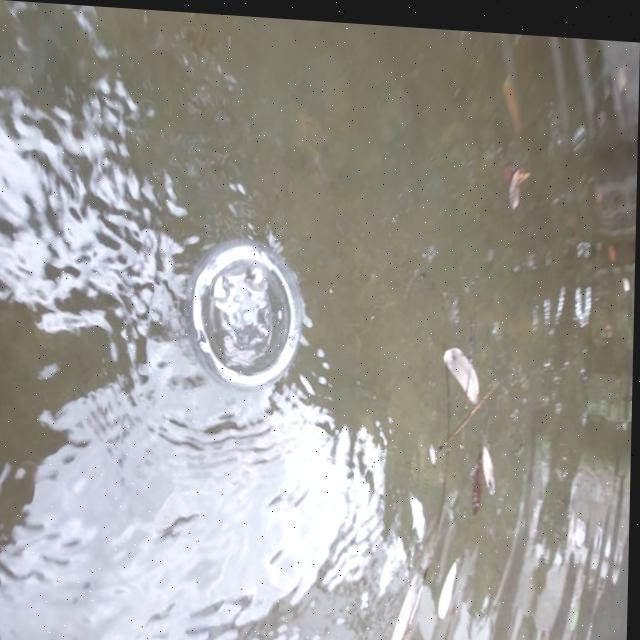leaf: (449, 423, 516, 508), (430, 331, 489, 406)
waterbottle: (164, 221, 321, 409)
